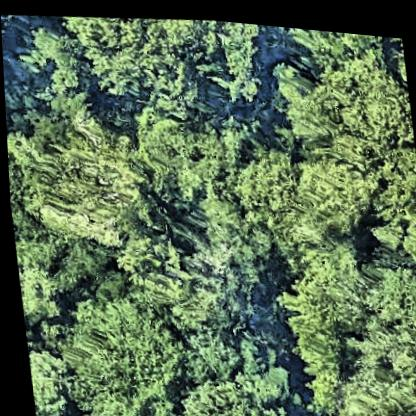tree-top: (4, 93, 158, 253), (45, 280, 193, 416), (202, 131, 356, 256), (123, 219, 265, 334), (275, 35, 406, 154), (68, 5, 216, 108), (135, 99, 256, 213), (275, 227, 375, 348), (179, 309, 291, 403), (281, 142, 381, 238), (172, 13, 272, 97), (161, 361, 294, 416), (10, 224, 74, 331), (318, 347, 416, 416), (363, 135, 416, 256), (358, 254, 416, 360), (12, 19, 88, 88), (279, 21, 388, 69), (23, 339, 74, 416)
